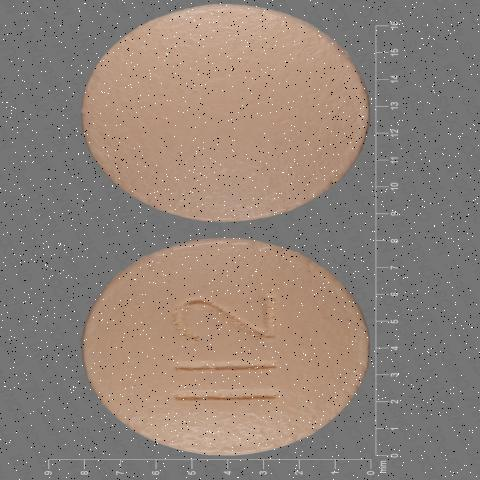Pill: (52, 235, 439, 472), (48, 4, 428, 232)
